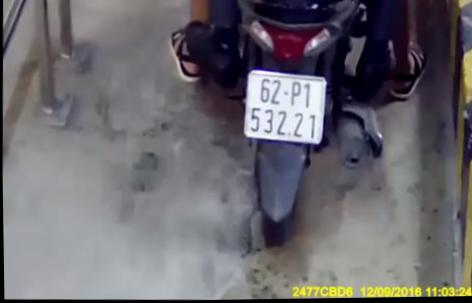LP: (241, 68, 326, 145)
